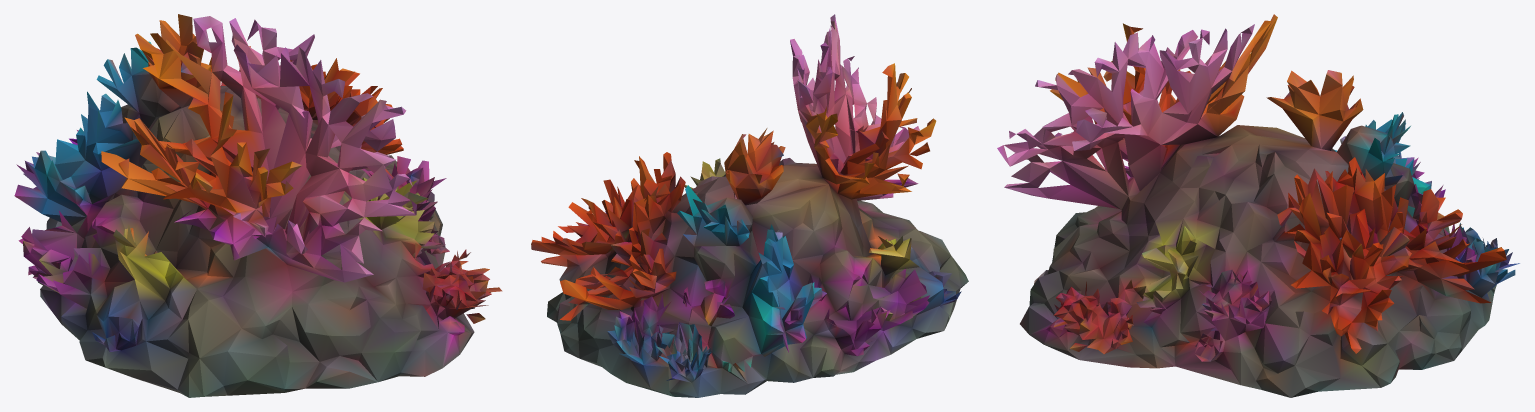
File: lazu.glb
The picture shows the model from 3 angles, left to right: view 1: azimuth 30°, elevation 25°; view 2: azimuth 150°, elevation 25°; view 3: azimuth 270°, elevation 25°; orthographic projection. The views are drawn at different scales.
Parts seen in each view (by area): view 1: lazu; view 2: lazu; view 3: lazu.
Part boxes in pixels (left/top/right/bottom): lazu: left=14, top=14, right=502, bottom=397; lazu: left=531, top=14, right=968, bottom=397; lazu: left=997, top=14, right=1519, bottom=397.
Bounding box in the file's own units: 1.68 × 1.14 × 2.02.
